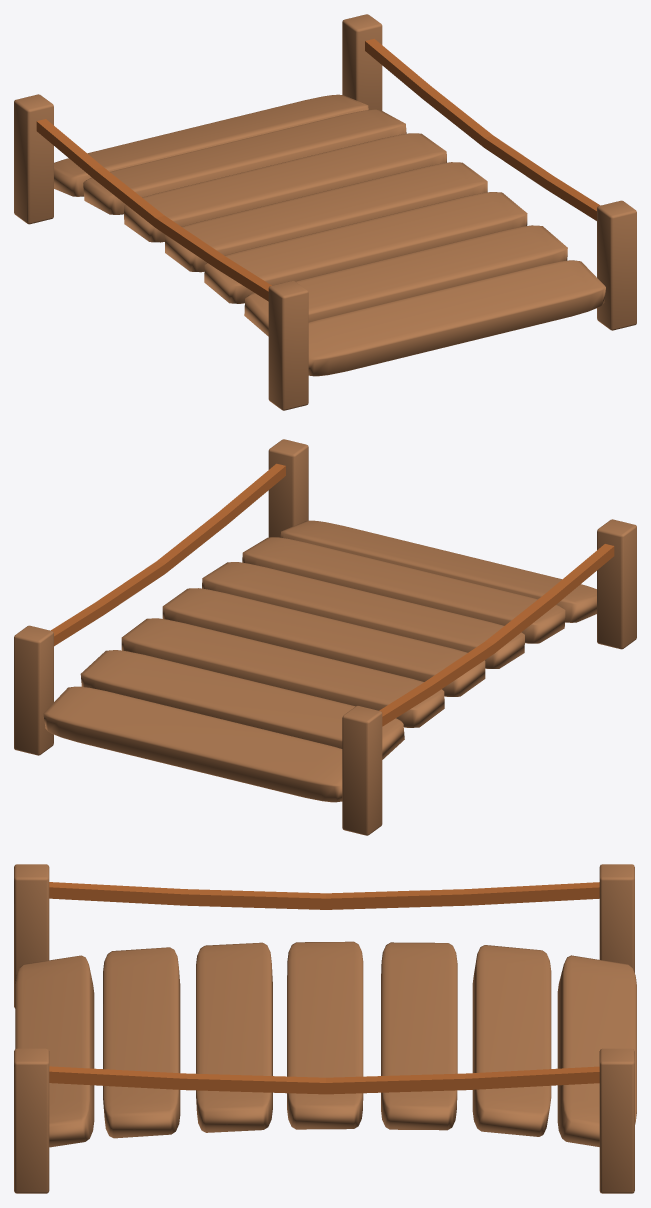
Rendered from Platform05.fbx.
The picture shows the model from 3 angles, top to bottom: view 1: azimuth 30°, elevation 25°; view 2: azimuth 150°, elevation 25°; view 3: azimuth 270°, elevation 25°; orthographic projection. The views are drawn at different scales.
Parts seen in each view (by area): view 1: Cube.010; view 2: Cube.010; view 3: Cube.010.
Boxes of the visible parts, bbox=[...] form: Cube.010: bbox=[14, 14, 636, 410]; Cube.010: bbox=[14, 439, 636, 835]; Cube.010: bbox=[14, 864, 636, 1193].
Size of the model in its own units: 176 by 54.59 by 233.
